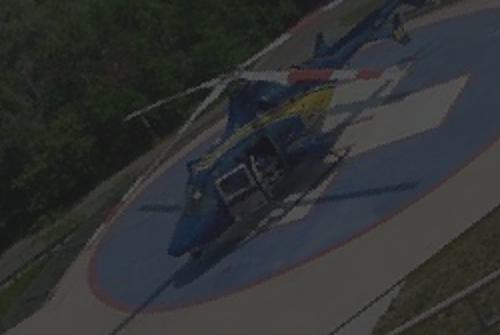Apron: (161, 120, 443, 212)
